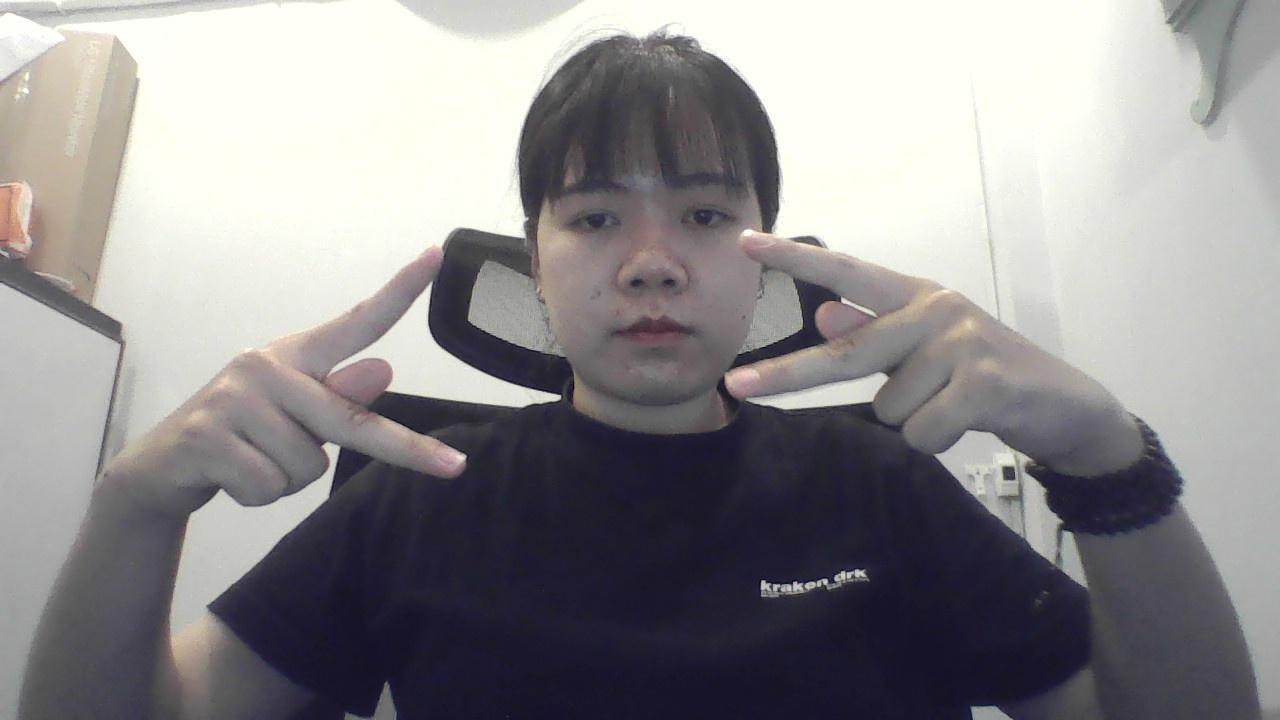P: (110, 234, 472, 506), (727, 219, 1067, 469)
